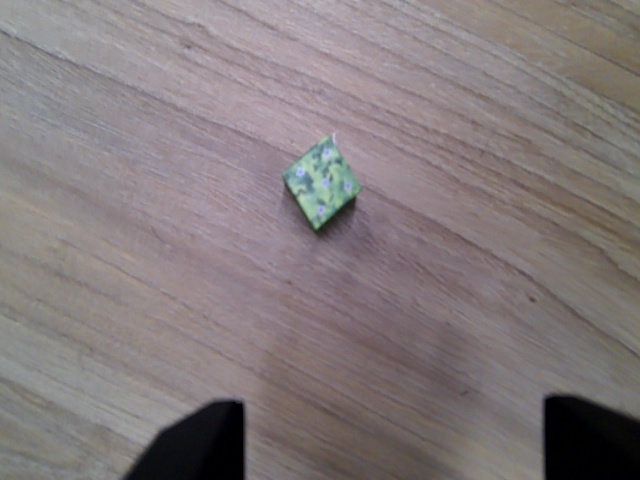grass: (280, 133, 362, 235)
